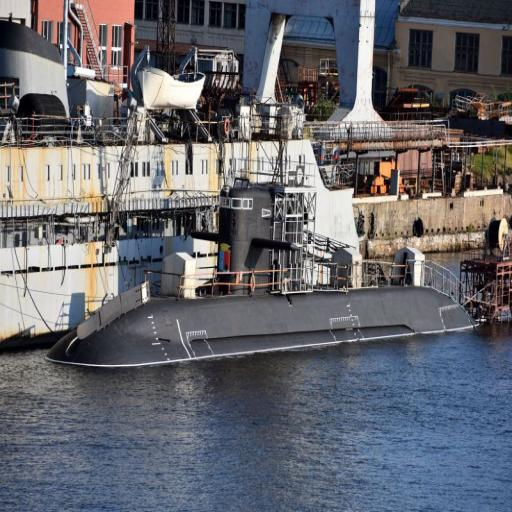submarine: (48, 171, 471, 363)
